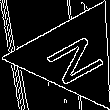N_NE: (36, 26, 108, 86)
